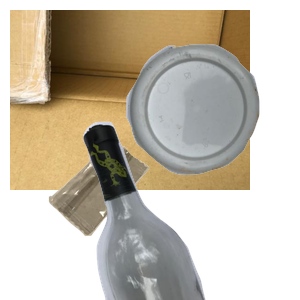cardboard: (10, 10, 250, 190)
glass: (81, 120, 300, 300)
plastic: (124, 42, 300, 210)
trash: (46, 144, 188, 300)
